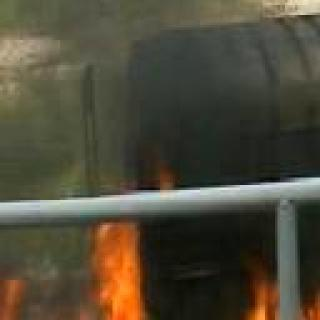fire: (6, 230, 177, 320), (244, 255, 320, 320)
